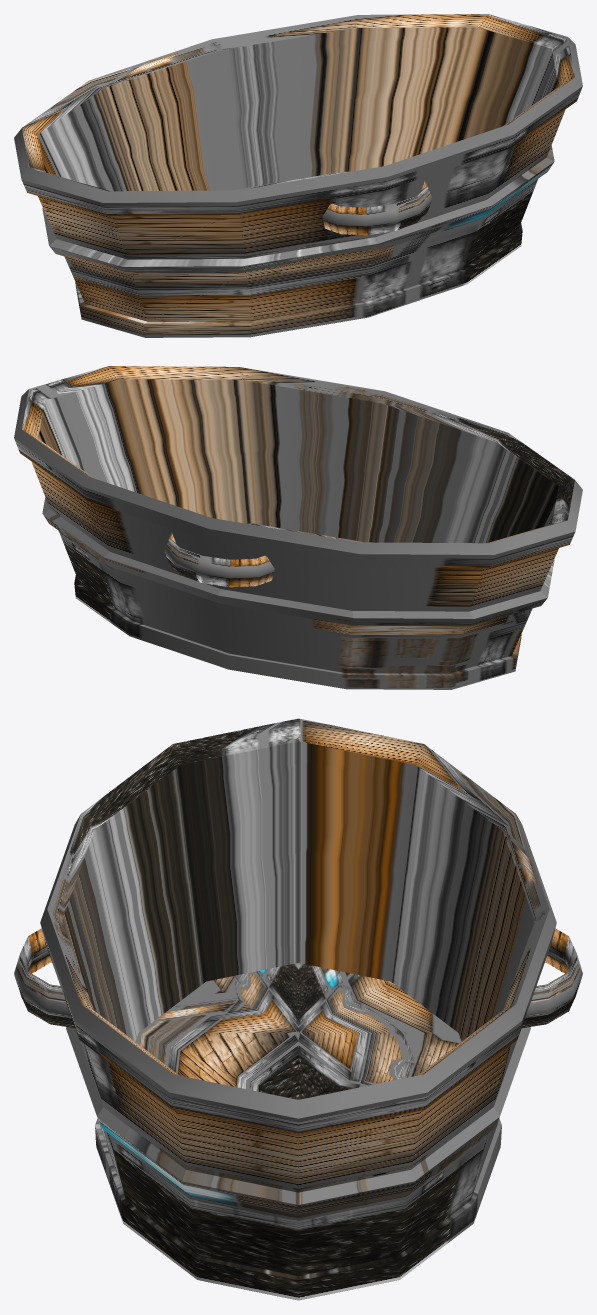
The model's file is bassine.FBX.
The picture shows the model from 3 angles, top to bottom: view 1: azimuth 30°, elevation 25°; view 2: azimuth 150°, elevation 25°; view 3: azimuth 270°, elevation 25°; orthographic projection. The views are drawn at different scales.
Visible parts, largest first — view 1: Cylinder005; view 2: Cylinder005; view 3: Cylinder005.
Boxes of the visible parts, bbox=[...] form: Cylinder005: bbox=[14, 14, 582, 337]; Cylinder005: bbox=[14, 366, 582, 689]; Cylinder005: bbox=[14, 718, 582, 1300].
Size of the model in its own units: 1092 by 309 by 669.
